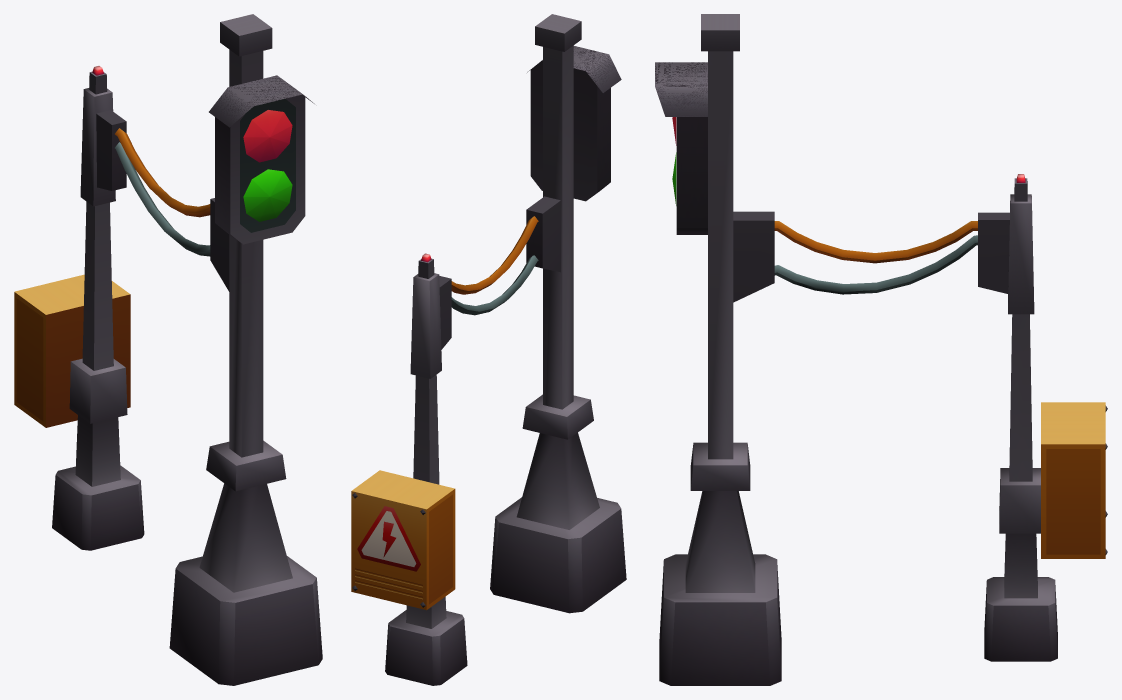
Rendered from Tracks_Stoplight_1A.fbx.
3 views of the same model, side by side, from view 1: azimuth 30°, elevation 25°; view 2: azimuth 150°, elevation 25°; view 3: azimuth 270°, elevation 25° (orthographic). The views are drawn at different scales.
Visible parts, largest first — view 1: Tracks_Stoplight_1A; view 2: Tracks_Stoplight_1A; view 3: Tracks_Stoplight_1A.
Part boxes in pixels (left/top/right/bottom): Tracks_Stoplight_1A: left=14, top=14, right=322, bottom=685; Tracks_Stoplight_1A: left=351, top=14, right=626, bottom=685; Tracks_Stoplight_1A: left=655, top=14, right=1107, bottom=685.
Bounding box in the file's own units: 1.13 × 6.53 × 4.2.
